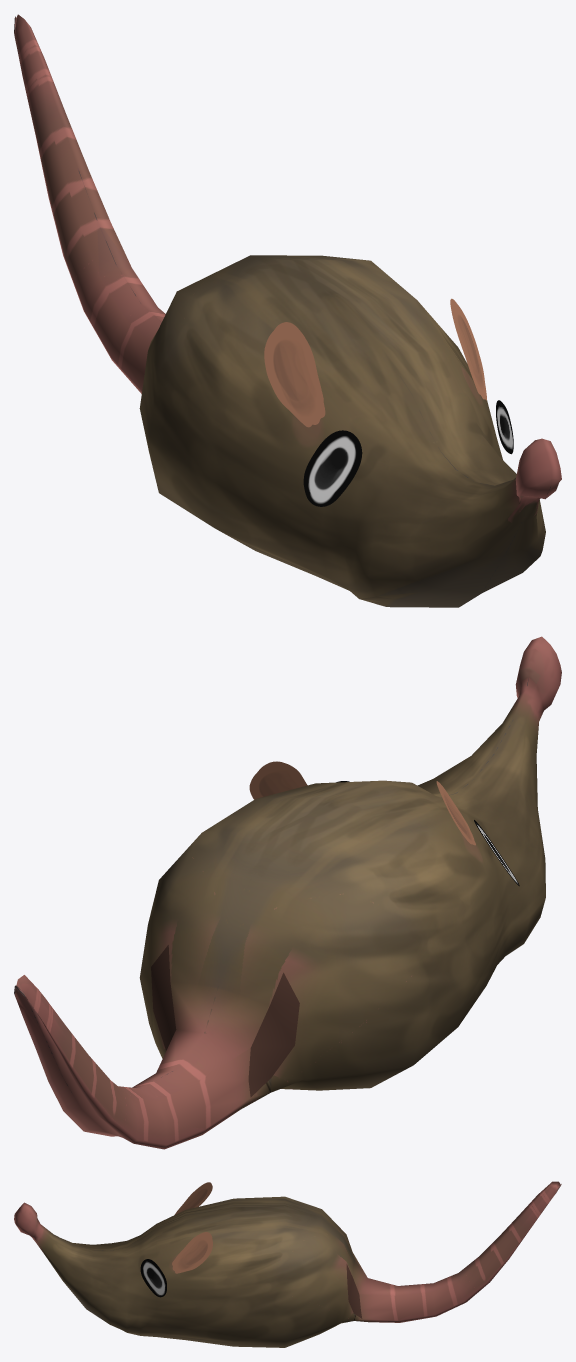
File: Rat_V2.fbx
3 views of the same model, one above another, from view 1: azimuth 30°, elevation 25°; view 2: azimuth 150°, elevation 25°; view 3: azimuth 270°, elevation 25° (orthographic). The views are drawn at different scales.
Visible parts, largest first — view 1: Eye.004; view 2: Eye.004; view 3: Eye.004.
Part boxes in pixels (box(x1,y1,x2,y2)): Eye.004: box(14, 14, 561, 607); Eye.004: box(14, 636, 561, 1149); Eye.004: box(14, 1181, 561, 1347).
Bounding box in the file's own units: 258 × 266 × 876.
